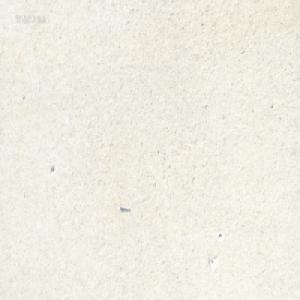Nail: (119, 204, 130, 212)
